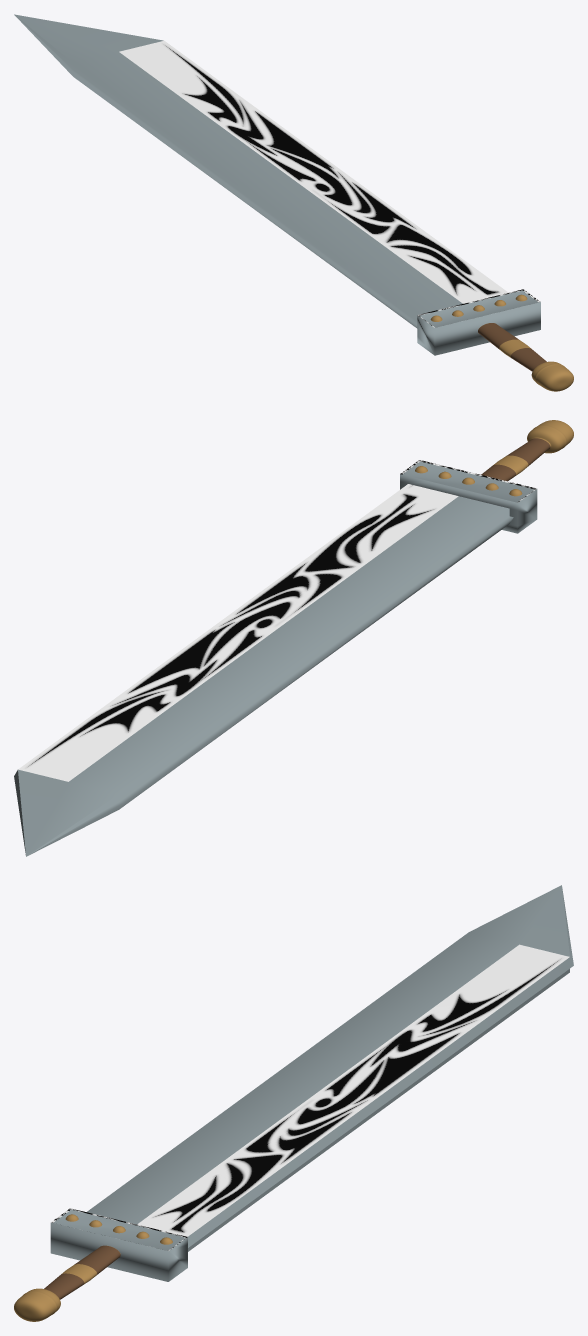
File: ornate-sword.glb
The picture shows the model from 3 angles, top to bottom: view 1: azimuth 30°, elevation 25°; view 2: azimuth 150°, elevation 25°; view 3: azimuth 330°, elevation 25°; orthographic projection. The views are drawn at different scales.
Visible parts, largest first — view 1: Cube.001, Cylinder.002; view 2: Cube.001, Cylinder.002; view 3: Cube.001, Cylinder.002.
Part boxes in pixels (left/top/right/bottom): Cube.001: left=14, top=14, right=540, bottom=355; Cylinder.002: left=478, top=323, right=573, bottom=391; Cube.001: left=14, top=460, right=537, bottom=856; Cylinder.002: left=481, top=420, right=573, bottom=481; Cube.001: left=50, top=885, right=573, bottom=1281; Cylinder.002: left=14, top=1245, right=120, bottom=1321.
Bounding box in the file's own units: 0.3156 × 0.0872 × 2.65.
Materials: 5 (1 with a texture image).
